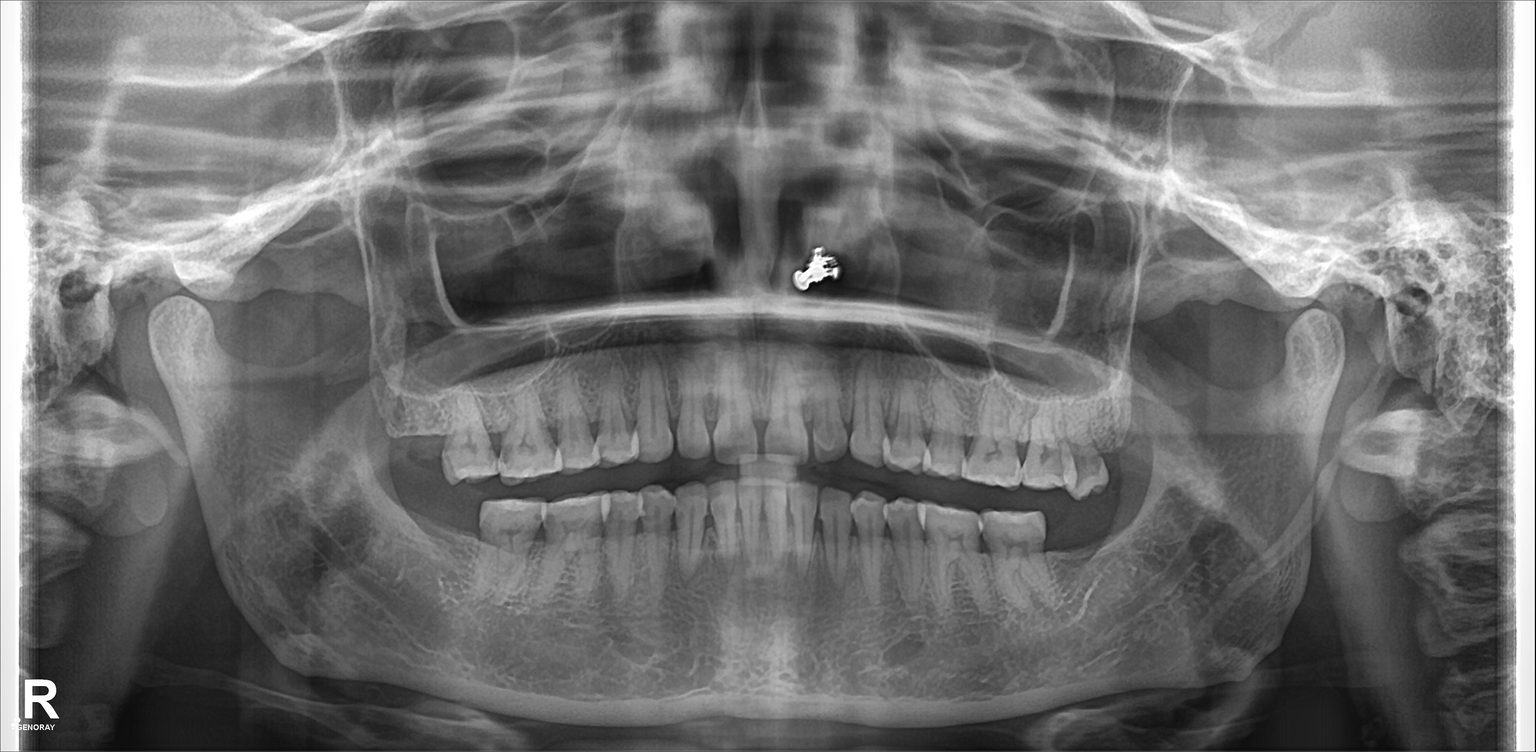Missing Tooth: (1088, 508, 1128, 602), (1102, 404, 1144, 484), (438, 495, 477, 578), (387, 493, 426, 575), (402, 395, 444, 469), (1050, 508, 1082, 594)
